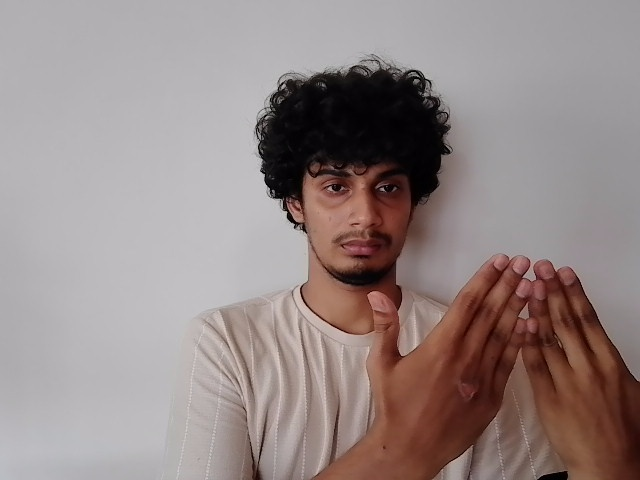thankyou: (352, 243, 640, 476)
